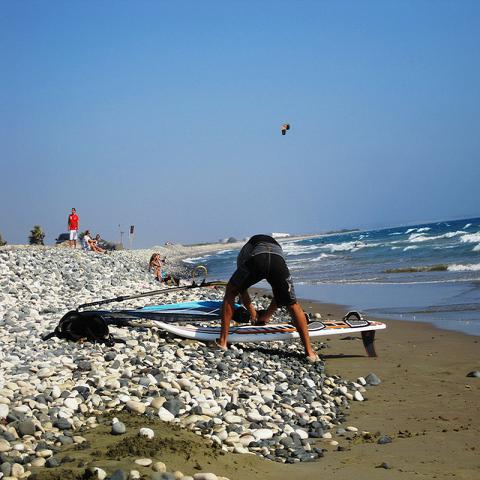car: (55, 233, 70, 246)
